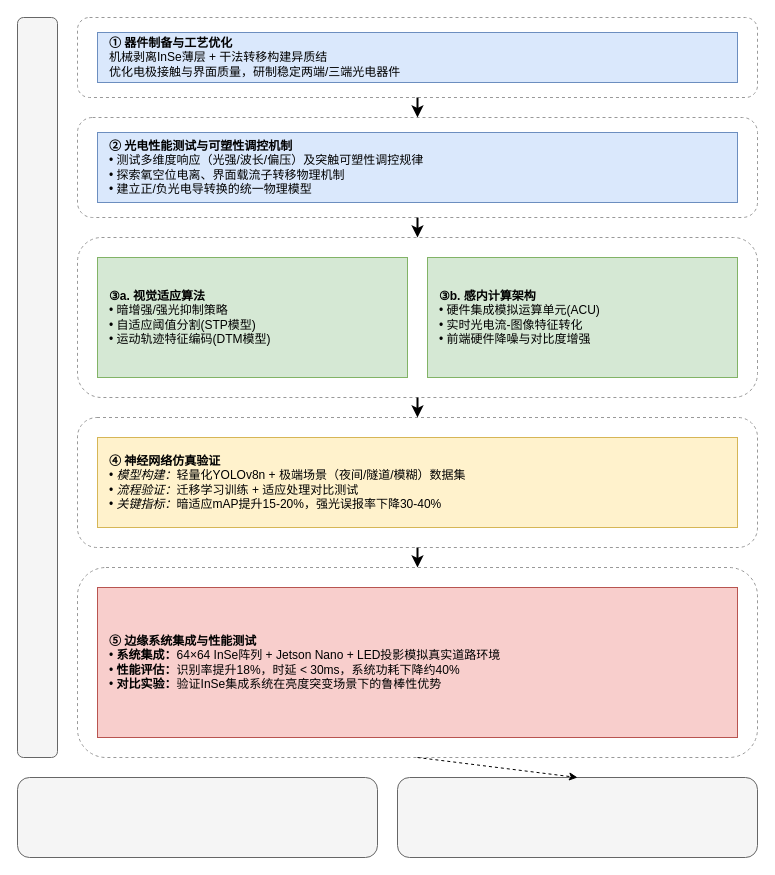
This 775x875 diagram has some shape labels left out. The shapes that lost their labels are listed below. From the top down, each one's centre as x and y in pixels, then its label:
At (37,387): "研究内容".
At (197,817): "【拟解决关键问题】 1. 极端条件下差异化响应基础 2. 信号采集与演示链条构建 3. 硬件级预处理算法转化潜力".
At (577,817): "【预期成果】 1. 稳定InSe器件及全套实验数据 2. 软硬件协同预处理程序平台 3. 极端光照检测小型原型系统/论文/专利".
